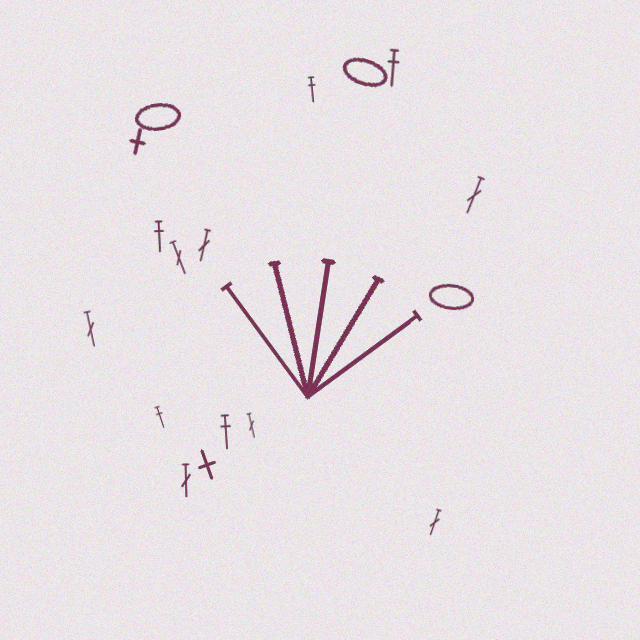chain: (338, 52, 392, 93), (133, 100, 182, 133), (427, 281, 475, 313)
double: (461, 175, 487, 216), (167, 239, 191, 276), (81, 310, 100, 348), (195, 228, 213, 263), (426, 508, 443, 537), (180, 463, 192, 498), (245, 412, 258, 439)
fan: (199, 222, 440, 417)
half_double: (384, 48, 402, 88), (218, 414, 234, 450), (152, 220, 166, 253), (153, 405, 168, 429), (306, 76, 318, 103)
single: (185, 443, 228, 486), (120, 124, 154, 159)
